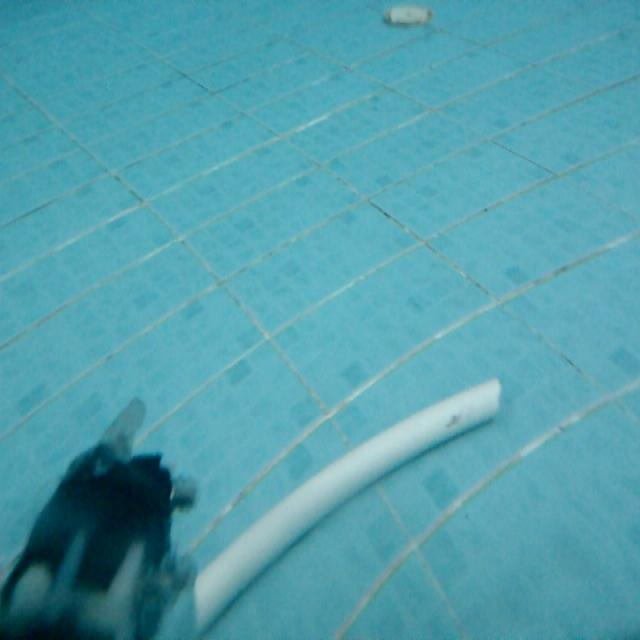Cube: (184, 371, 504, 636)
